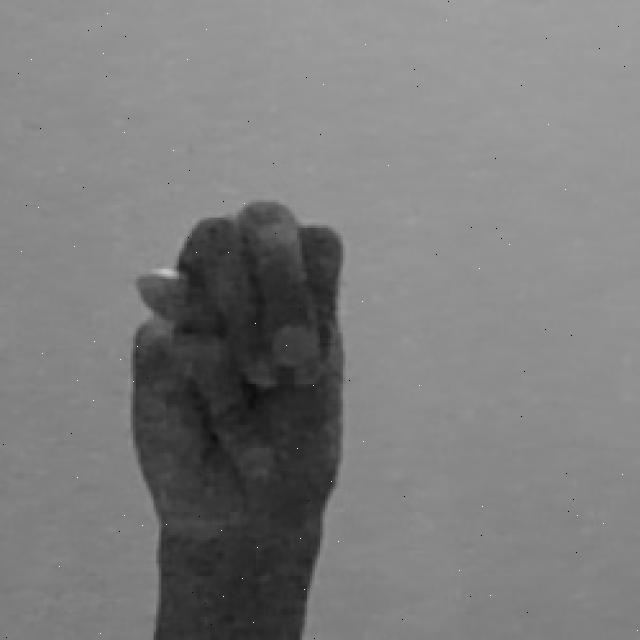M: (120, 192, 348, 640)
